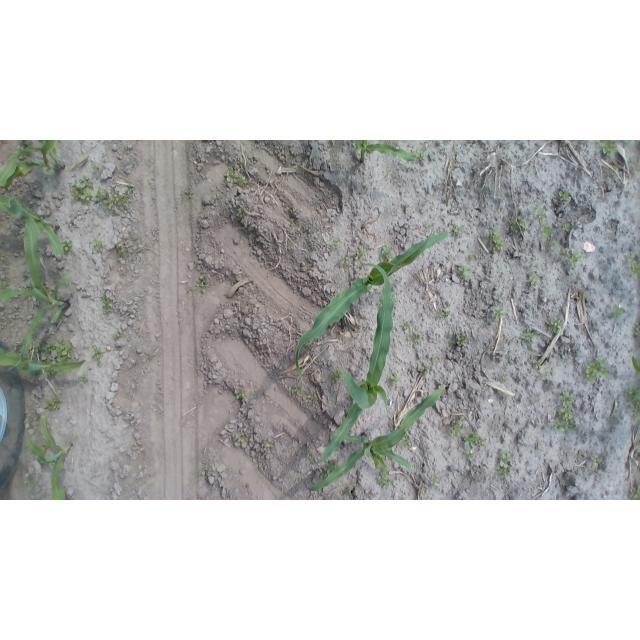Maize: (295, 228, 444, 392), (313, 263, 400, 470), (309, 378, 450, 497), (2, 207, 77, 370), (21, 415, 75, 499), (0, 192, 64, 255), (0, 141, 64, 190), (0, 338, 84, 374), (351, 140, 418, 164)
Weeds: (553, 389, 580, 434), (93, 185, 134, 210), (38, 338, 72, 362), (68, 176, 94, 205), (583, 357, 610, 382), (463, 432, 486, 452), (626, 384, 639, 416), (489, 229, 505, 252), (375, 469, 393, 489), (497, 447, 513, 469), (545, 317, 564, 335), (448, 418, 465, 437), (627, 252, 638, 280), (600, 140, 619, 156), (519, 328, 538, 344), (321, 459, 337, 477), (101, 293, 114, 315), (328, 369, 343, 385), (408, 331, 424, 346), (459, 266, 474, 282), (497, 464, 511, 480), (532, 204, 546, 220), (195, 274, 208, 291), (224, 165, 236, 183), (567, 251, 581, 266), (47, 397, 61, 412), (387, 373, 401, 388), (611, 305, 625, 320), (380, 246, 392, 263), (456, 332, 469, 347), (527, 273, 540, 288), (507, 217, 519, 233), (540, 223, 552, 239), (92, 346, 104, 362), (528, 357, 542, 370), (60, 239, 73, 253), (493, 306, 506, 320), (355, 244, 366, 260), (558, 190, 570, 204), (181, 187, 196, 198), (630, 355, 638, 375), (452, 226, 464, 239), (92, 240, 104, 253), (416, 148, 427, 162), (117, 246, 129, 258), (630, 485, 639, 500), (25, 477, 40, 486), (464, 450, 475, 462), (400, 321, 412, 332), (593, 455, 603, 468), (402, 436, 412, 449), (308, 389, 317, 403), (430, 476, 441, 487), (305, 450, 315, 462), (292, 383, 302, 395), (518, 215, 526, 229), (39, 442, 49, 453), (237, 390, 247, 401), (237, 175, 248, 185), (261, 438, 272, 448), (420, 363, 430, 374), (237, 434, 248, 444), (236, 208, 246, 218), (548, 240, 557, 251), (341, 254, 352, 263), (331, 238, 340, 249), (78, 375, 87, 386), (344, 486, 356, 494), (115, 328, 124, 338), (90, 163, 99, 173), (441, 310, 452, 318), (468, 252, 477, 261), (542, 369, 550, 379), (502, 373, 511, 381), (535, 442, 543, 451), (562, 223, 570, 232), (634, 323, 639, 337), (525, 167, 533, 175), (420, 488, 427, 496), (431, 355, 440, 361), (631, 162, 637, 171)
